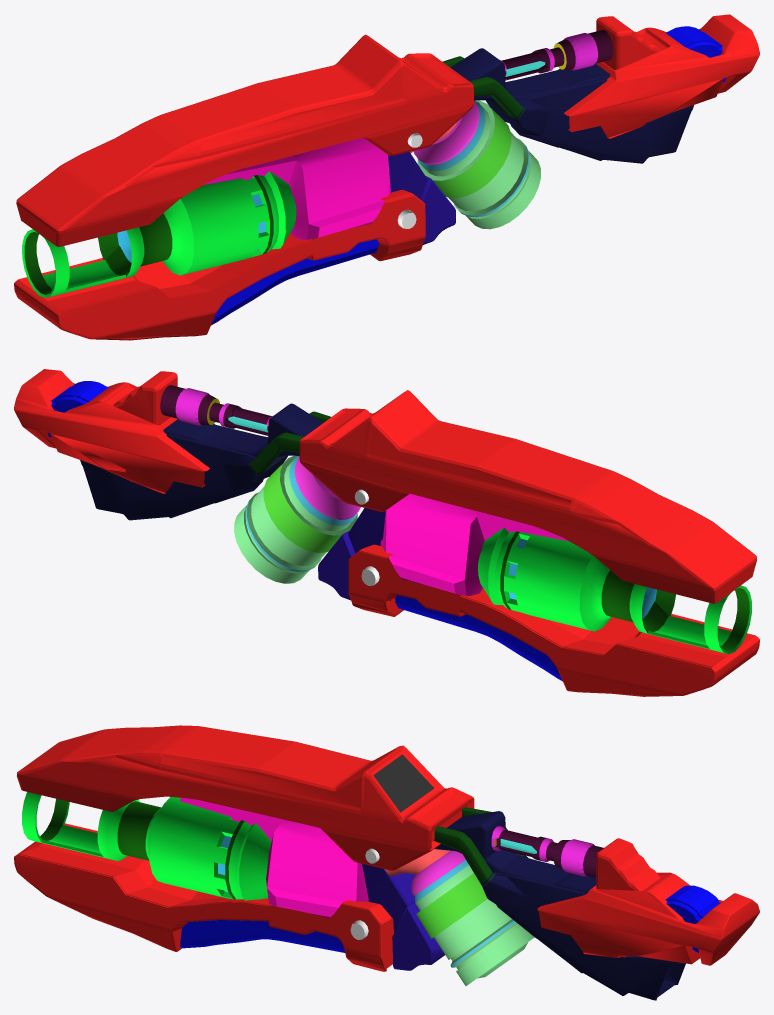
Rendered from PLayer Gun.FBX.
The picture shows the model from 3 angles, top to bottom: view 1: azimuth 30°, elevation 25°; view 2: azimuth 150°, elevation 25°; view 3: azimuth 330°, elevation 25°; orthographic projection.
Visible parts, largest first — view 1: Line029; view 2: Line029; view 3: Line029.
Boxes of the visible parts, <box> form: Line029: <box>14,14,759,340</box>; Line029: <box>14,369,759,696</box>; Line029: <box>14,725,759,1000</box>.
Bounding box in the file's own units: 60.25 × 19.12 × 7.67.
